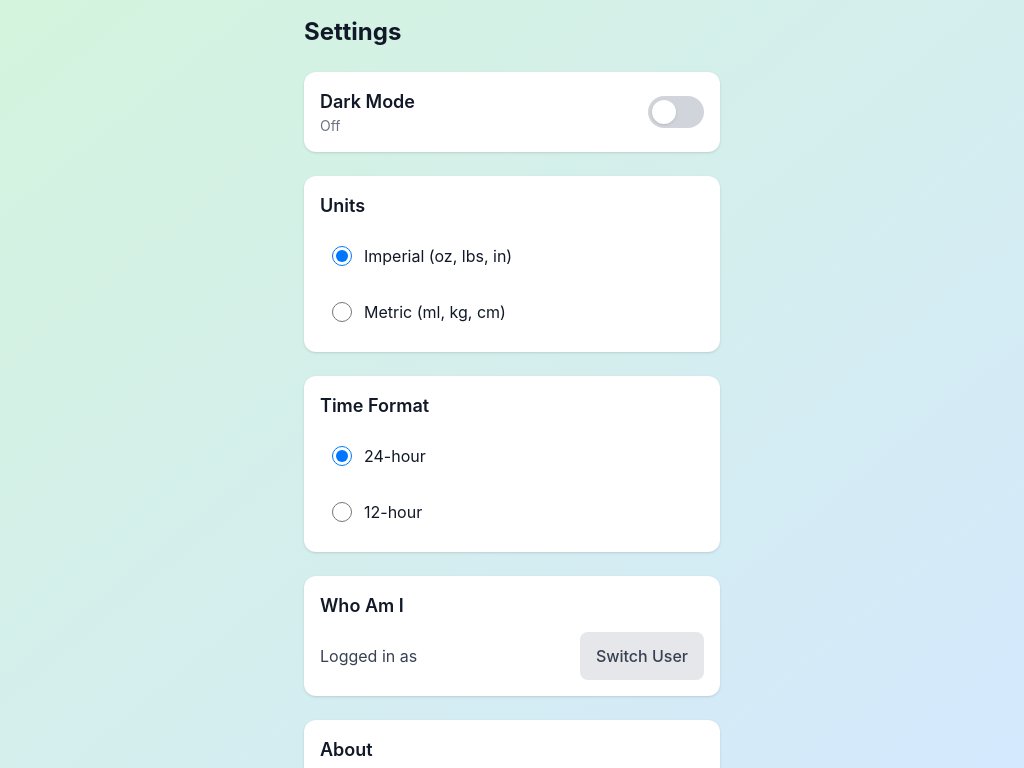
Scenario: Settings — Units › updates UI immediately when switching units (optimistic update)
The image size is (1024, 768).
What coordinates should you click on to do the following:
click the radio button labelled "Metric (ml, kg, cm)"
I would click on:
 (342, 312)
Its box is [332, 302, 352, 322].
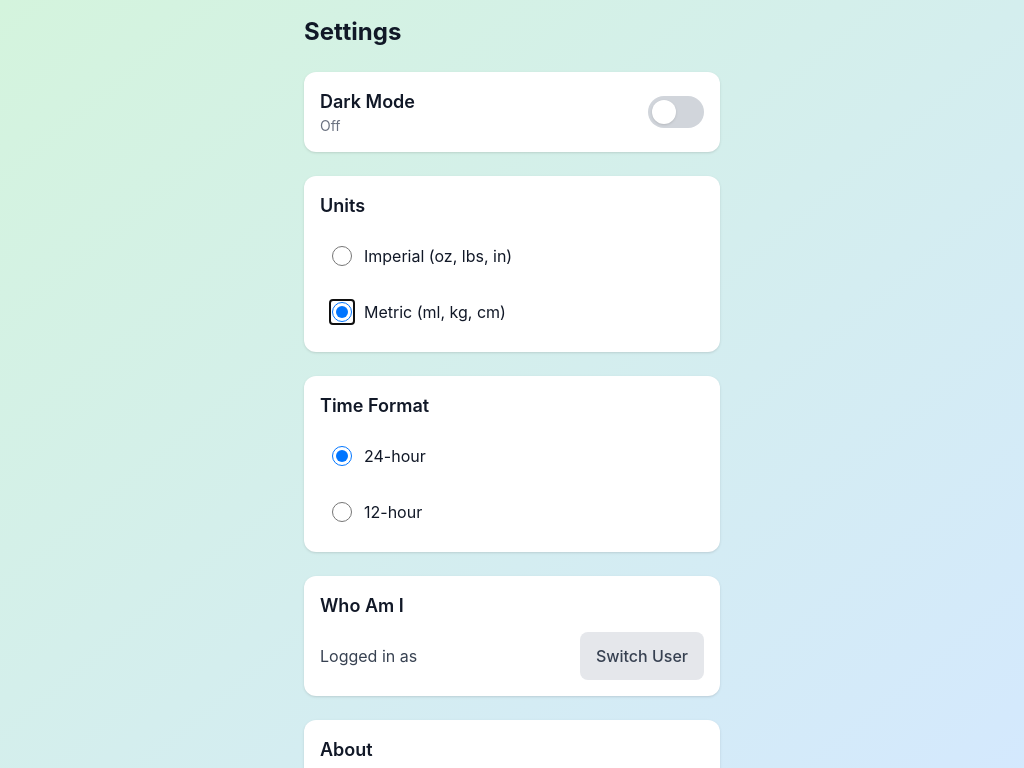
Expected: the radio button labelled "Metric (ml, kg, cm)" is checked, [332, 302, 352, 322]
Expected: the radio button labelled "Imperial (oz, lbs, in)" is not checked, [332, 246, 352, 266]
